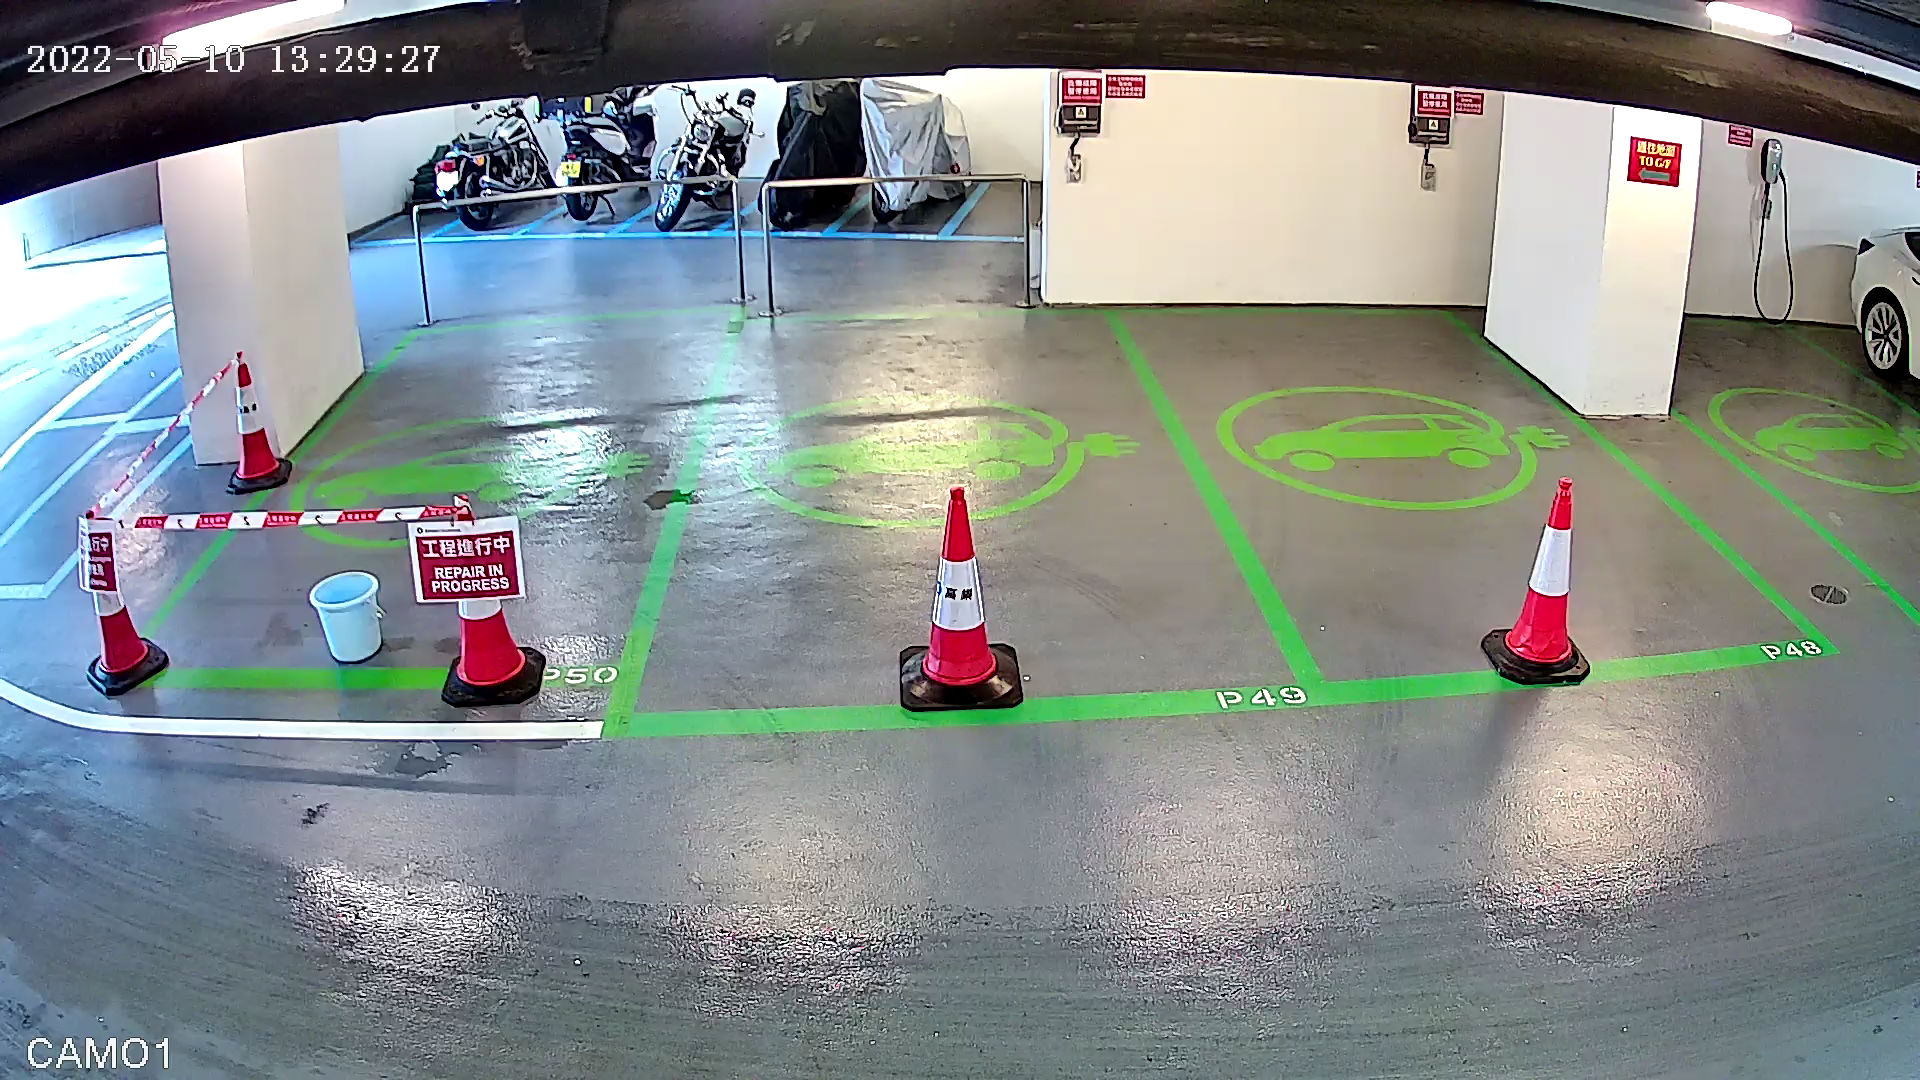space: (564, 253, 1352, 773), (1087, 249, 1855, 740)
